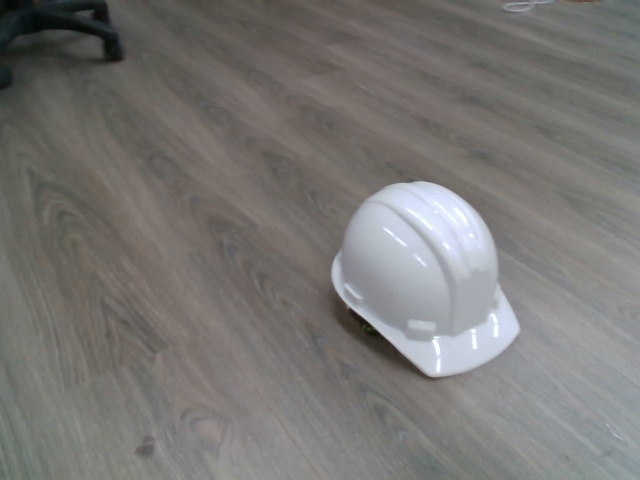helmet: (328, 177, 525, 385)
